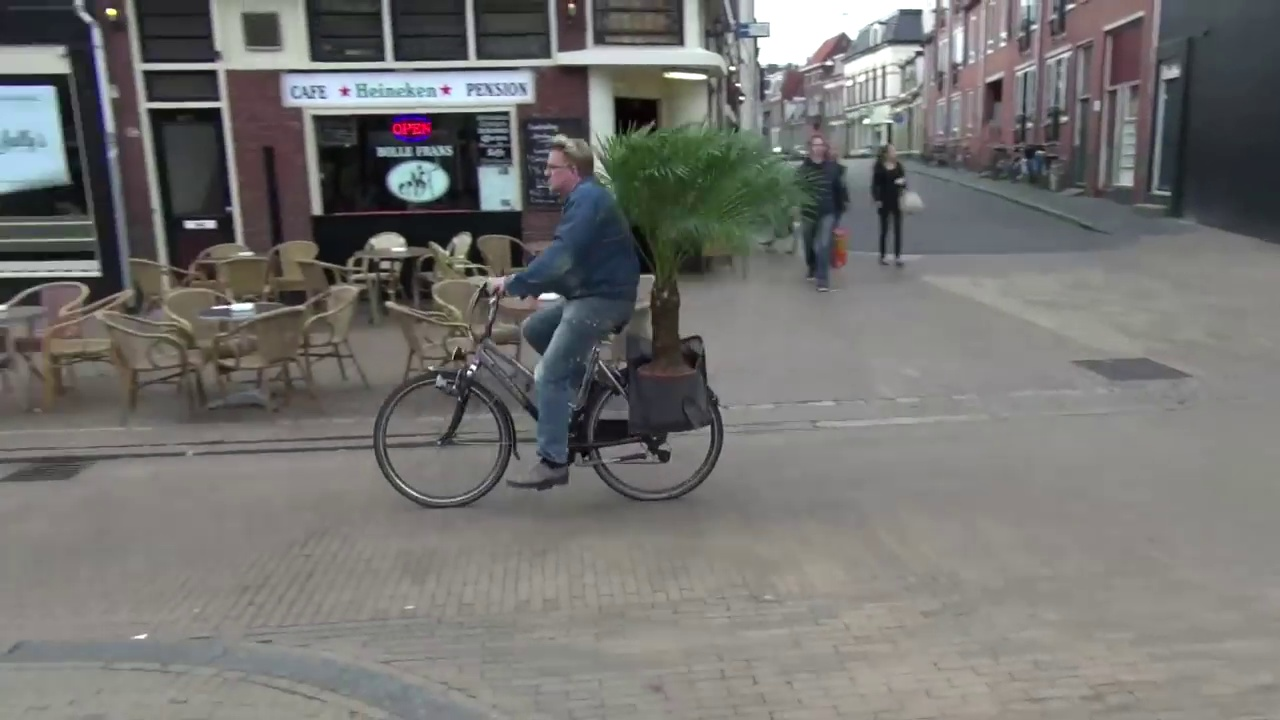cyclist_side: (368, 133, 734, 501)
